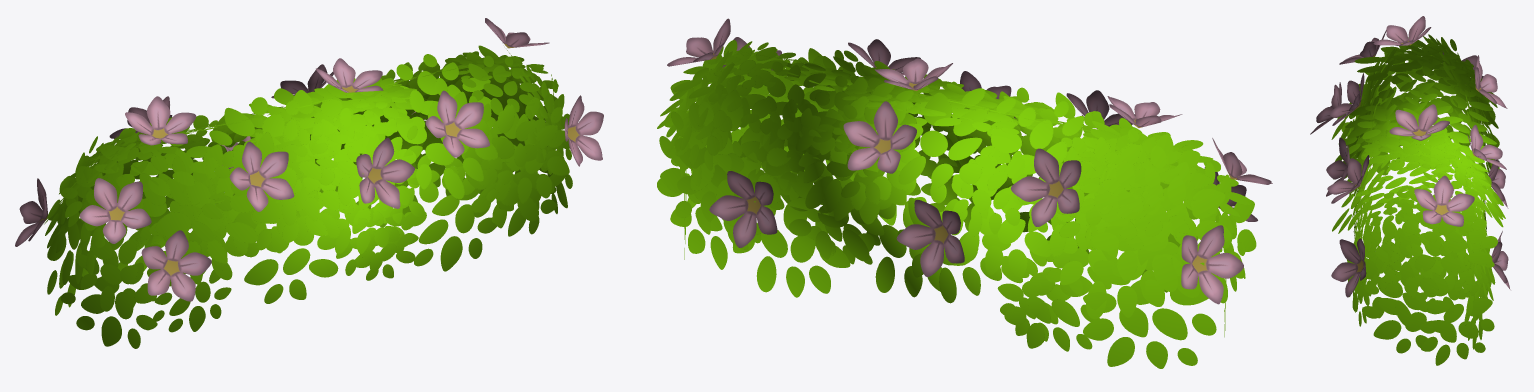
The model's file is Bush_Small_Flowers.gltf.
3 views of the same model, side by side, from view 1: azimuth 30°, elevation 25°; view 2: azimuth 150°, elevation 25°; view 3: azimuth 270°, elevation 25° (orthographic). The views are drawn at different scales.
Parts seen in each view (by area): view 1: Bush_Small_Flowers; view 2: Bush_Small_Flowers; view 3: Bush_Small_Flowers.
Boxes of the visible parts, <box> form: Bush_Small_Flowers: <box>15,18,603,348</box>; Bush_Small_Flowers: <box>657,18,1272,368</box>; Bush_Small_Flowers: <box>1310,16,1510,365</box>.
Bounding box in the file's own units: 1.93 × 0.8168 × 0.7617.
Materials: 2 (2 with a texture image).
